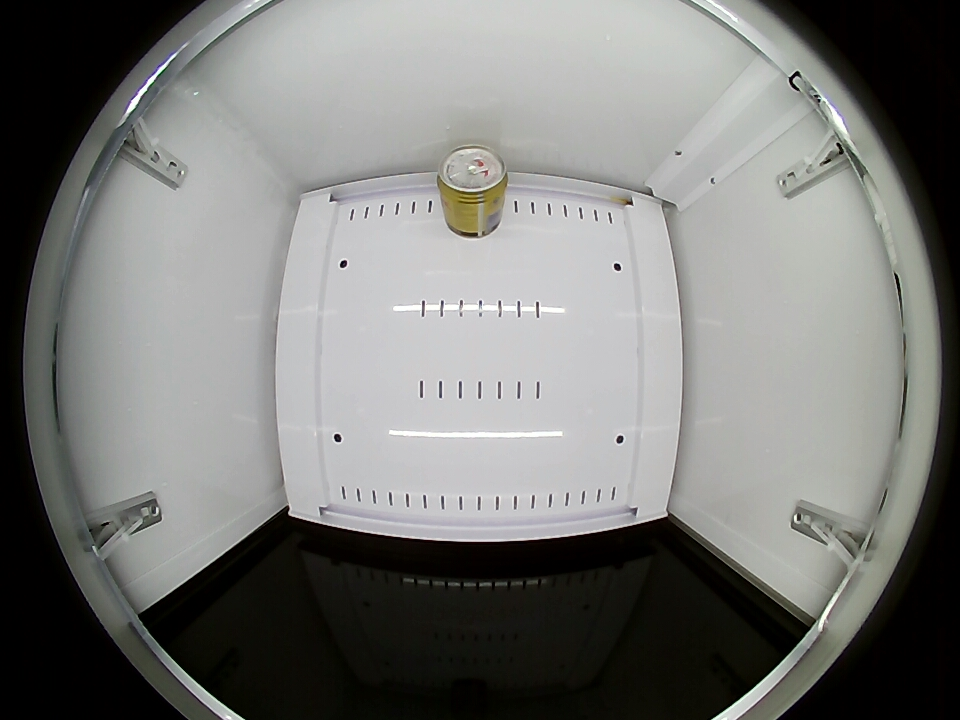hongniu2: (437, 144, 509, 209)
